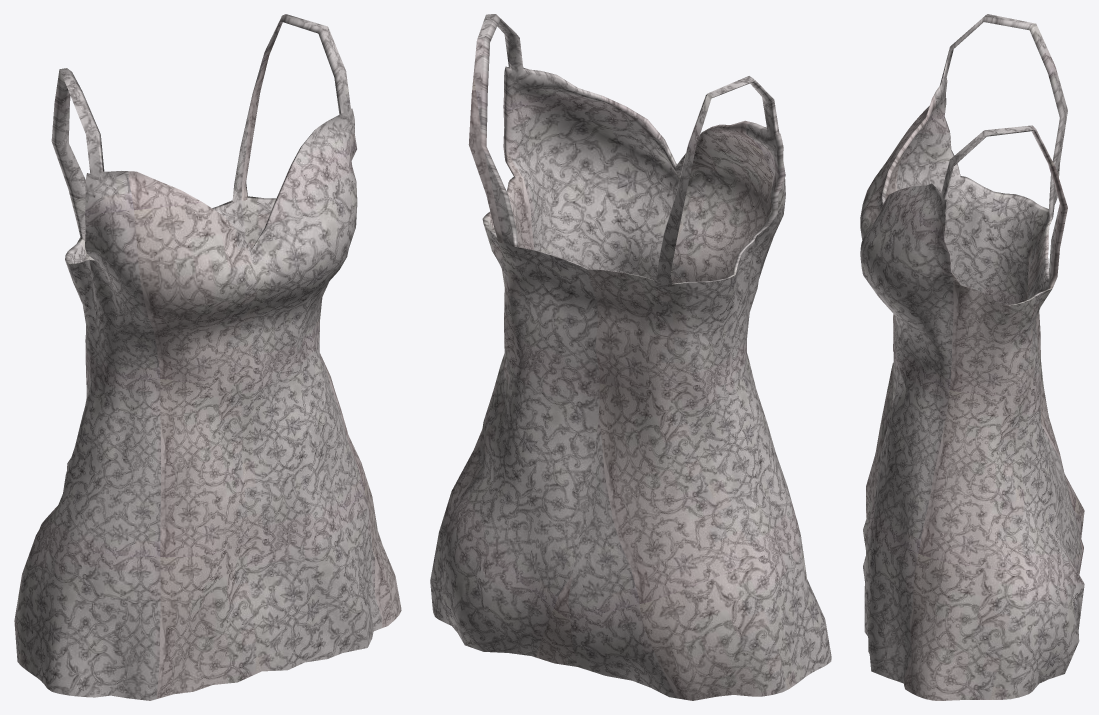
File: slip.fbx
The picture shows the model from 3 angles, left to right: view 1: azimuth 30°, elevation 25°; view 2: azimuth 150°, elevation 25°; view 3: azimuth 270°, elevation 25°; orthographic projection. The views are drawn at different scales.
Parts seen in each view (by area): view 1: slip (exterior), slip (interior); view 2: slip (exterior), slip (interior); view 3: slip (exterior), slip (interior).
Part boxes in pixels (x1,y1,x2,y2): slip (exterior): (14, 14, 401, 700); slip (interior): (51, 15, 351, 263); slip (exterior): (430, 14, 831, 700); slip (interior): (481, 14, 785, 284); slip (exterior): (860, 14, 1084, 700); slip (interior): (882, 16, 1067, 305).
Size of the model in its own units: 1.83 by 2.87 by 1.06.
